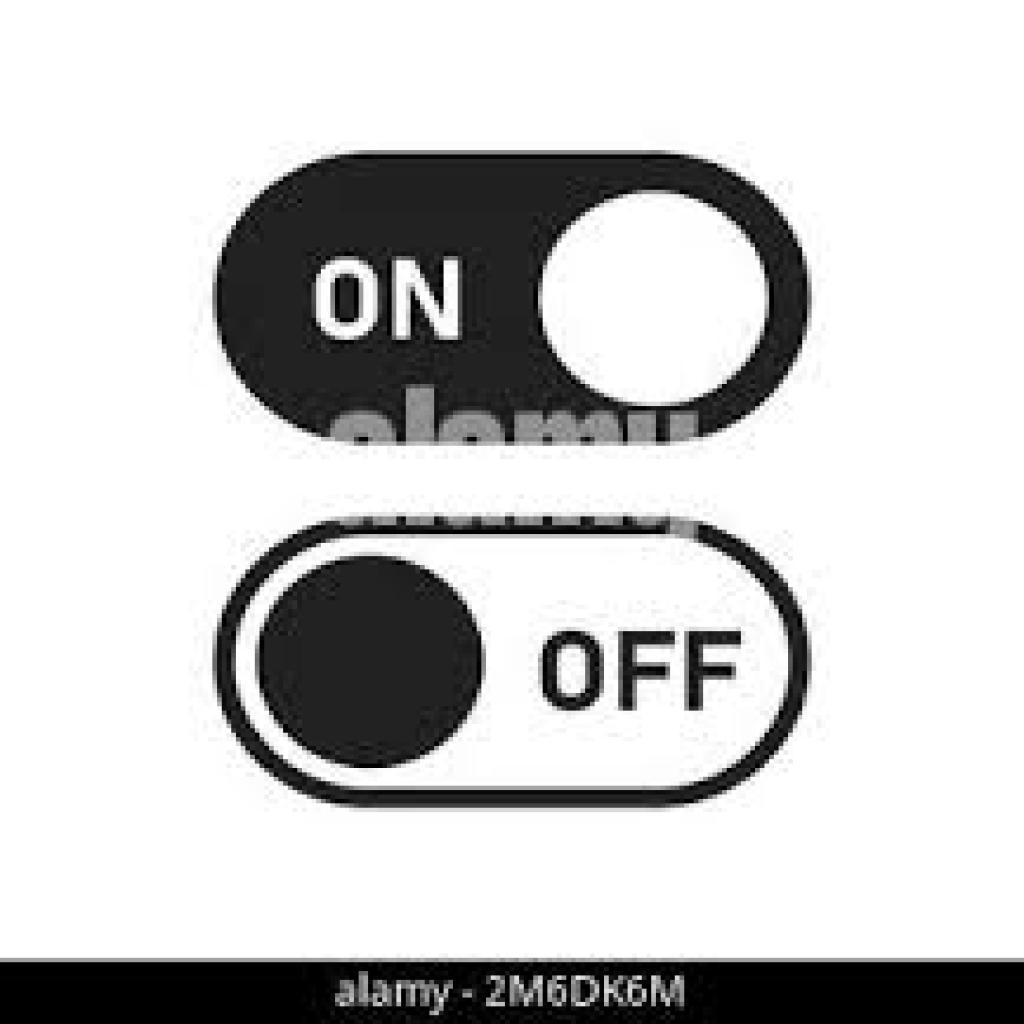switch: (215, 155, 814, 450), (210, 519, 815, 811)
